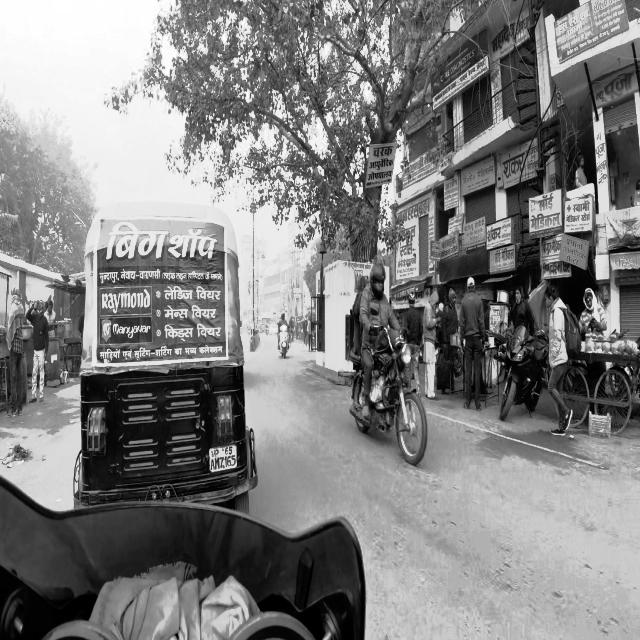Bike: (72, 174, 269, 523), (336, 253, 434, 474)
